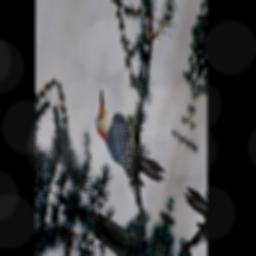Woodpecker: (88, 88, 173, 200)
